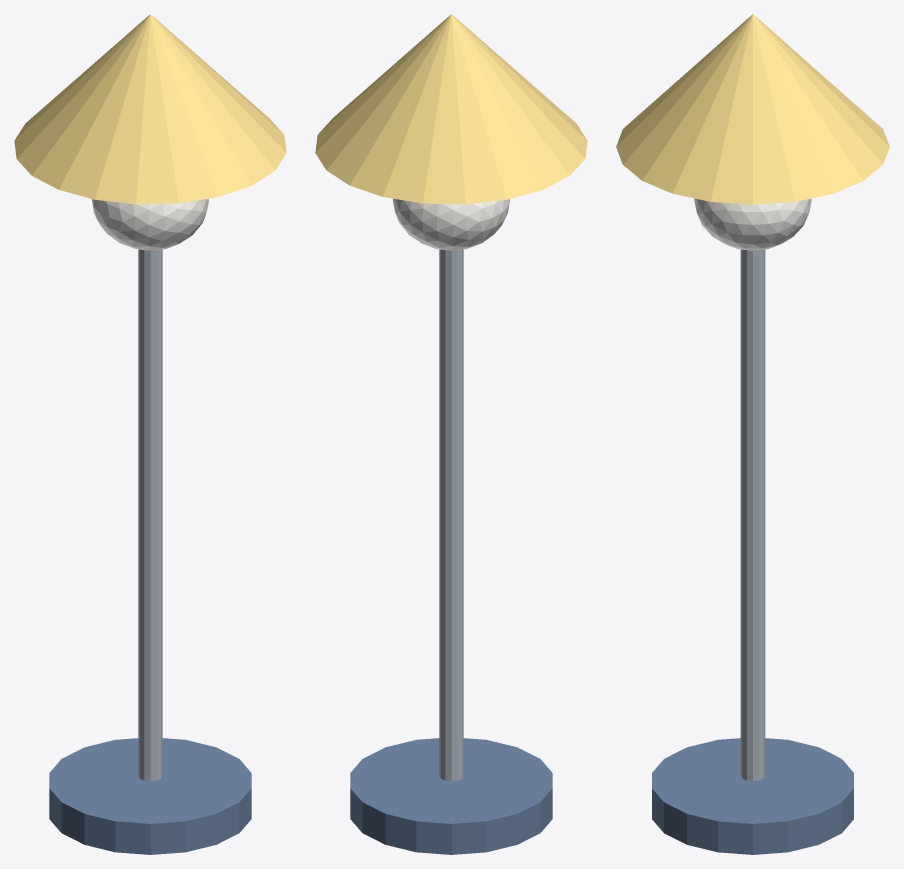
File: floor_lamp.glb
The picture shows the model from 3 angles, left to right: view 1: azimuth 30°, elevation 25°; view 2: azimuth 150°, elevation 25°; view 3: azimuth 270°, elevation 25°; orthographic projection.
Parts seen in each view (by area): view 1: shade, base, pole, bulb; view 2: shade, base, pole, bulb; view 3: shade, base, pole, bulb.
Boxes of the visible parts, x1,y1,x2,y2 form: shade: (14, 14, 286, 204); base: (49, 738, 251, 854); pole: (138, 249, 162, 781); bulb: (92, 198, 208, 250); shade: (315, 14, 587, 204); base: (350, 738, 552, 854); pole: (439, 249, 463, 781); bulb: (393, 198, 509, 250); shade: (616, 14, 889, 204); base: (652, 738, 853, 854); pole: (740, 249, 765, 781); bulb: (694, 198, 811, 250).
Size of the model in its own units: 0.56 by 1.8 by 0.56.
